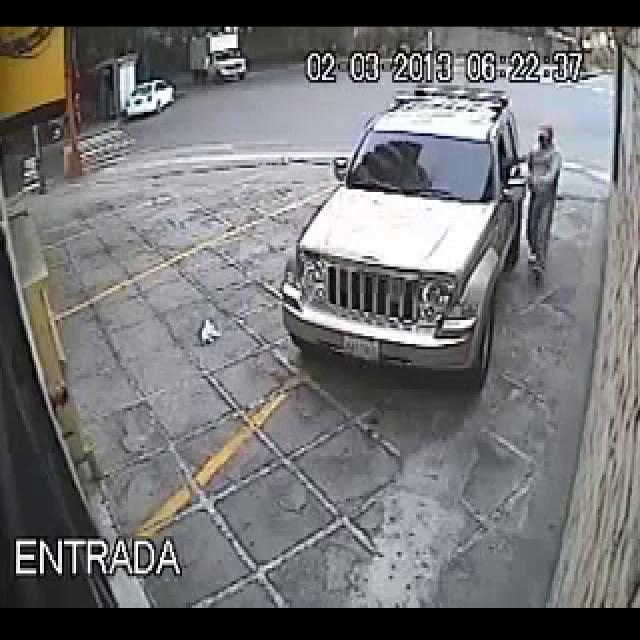shooting: (341, 48, 627, 428)
